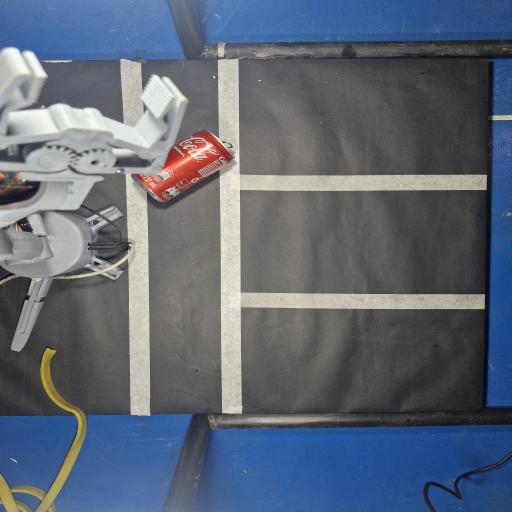lata: (132, 130, 234, 202)
